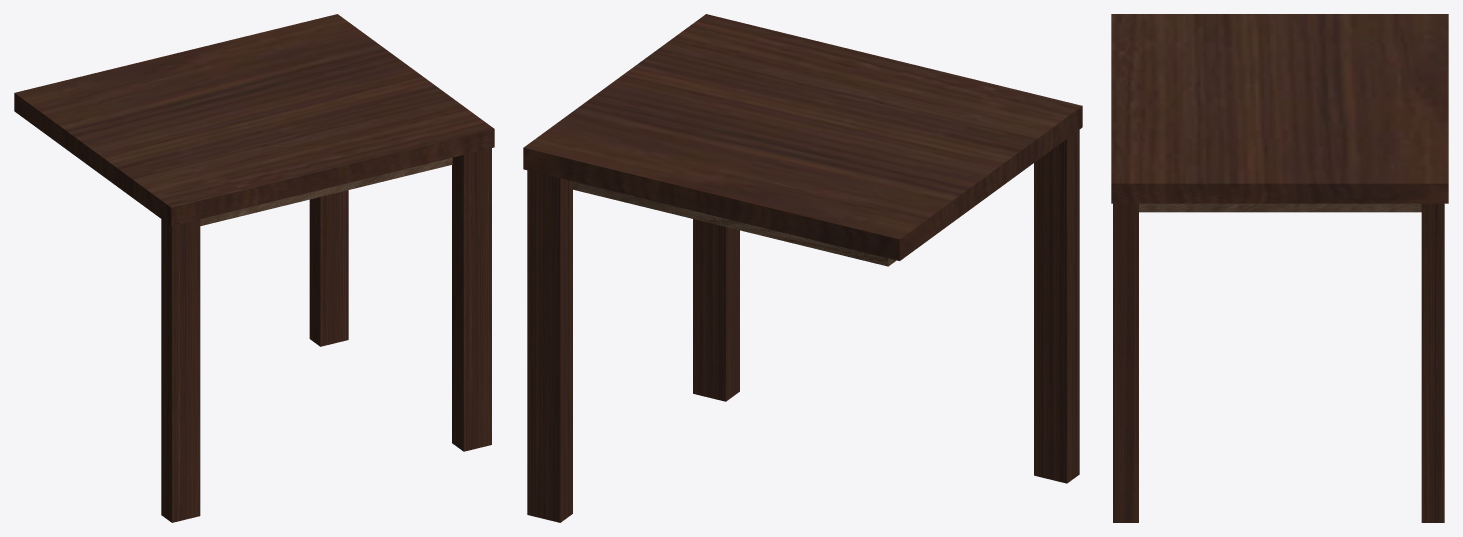
File: Table 2.fbx
3 renders of one model, left to right at view 1: azimuth 30°, elevation 25°; view 2: azimuth 150°, elevation 25°; view 3: azimuth 270°, elevation 25°, orthographic. The views are drawn at different scales.
Parts seen in each view (by area): view 1: Cube, Cube.002, Cube.003, Cube.004, Cube.001; view 2: Cube, Cube.004, Cube.002, Cube.005, Cube.001, Cube.003; view 3: Cube, Cube.004, Cube.003, Cube.005, Cube.001.
Part boxes in pixels (bbox=[...]): Cube: bbox=[14, 14, 494, 226]; Cube.002: bbox=[161, 219, 200, 522]; Cube.003: bbox=[453, 148, 491, 451]; Cube.004: bbox=[309, 190, 348, 346]; Cube.001: bbox=[200, 157, 452, 225]; Cube: bbox=[523, 14, 1082, 260]; Cube.004: bbox=[527, 170, 572, 522]; Cube.002: bbox=[1034, 130, 1079, 483]; Cube.005: bbox=[693, 219, 738, 401]; Cube.001: bbox=[572, 181, 896, 266]; Cube.003: bbox=[727, 227, 739, 400]; Cube: bbox=[1111, 14, 1448, 203]; Cube.004: bbox=[1421, 203, 1444, 522]; Cube.003: bbox=[1113, 203, 1136, 522]; Cube.005: bbox=[1115, 203, 1138, 522]; Cube.001: bbox=[1139, 203, 1421, 212].
Bounding box in the file's own units: 354 × 331 × 298.
